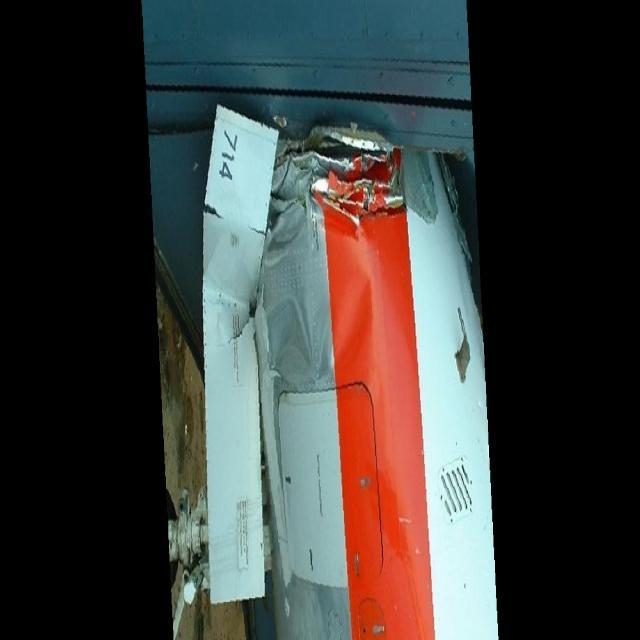dent: (257, 262, 378, 386)
